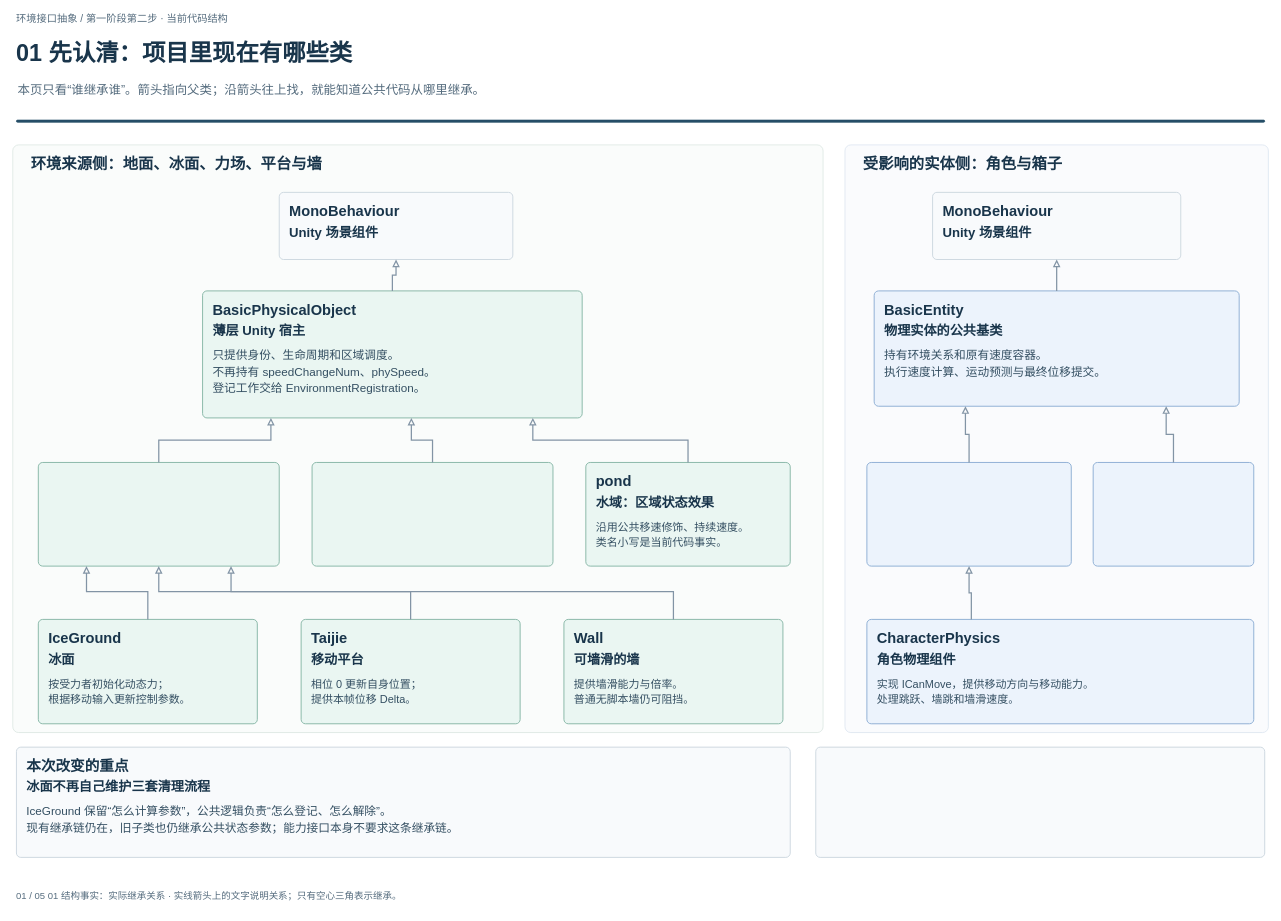
Some shapes in this 1281 by 921 pixel diagram are drawn without their labels. Here are the shapes that lost their labels. From the top down, the box of each, then its label:
(38, 462, 279, 566): BaseGround 地面参数兼容层 提供地面阻力、跳跃加成。 允许通过“脚下支撑”接入效果。
(311, 462, 553, 566): ForceField 力场：区域内持续施力 提供 add、maxSpeed 初始化规则。 区域关系由公共逻辑管理。
(866, 462, 1071, 566): BasePhysicsEntity 角色物理公共层 读取动作输入； 解析地面和墙滑能力。
(1092, 462, 1254, 566): PhysicalBox 箱体物理组件 继承实体的环境接入； 无主动移动接口 ICanMove。
(815, 746, 1265, 858): 继续阅读 下一页看：对象是谁持有的 继承回答“公共代码来自哪里”。 持有关系回答“运行时数据放在哪里”。
